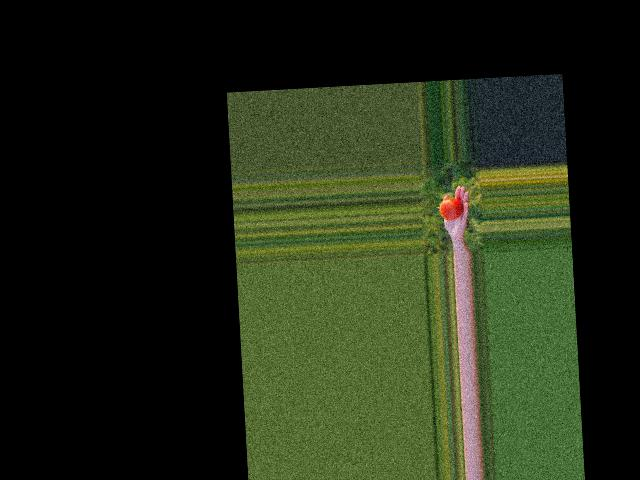tomato: (439, 197, 464, 220)
